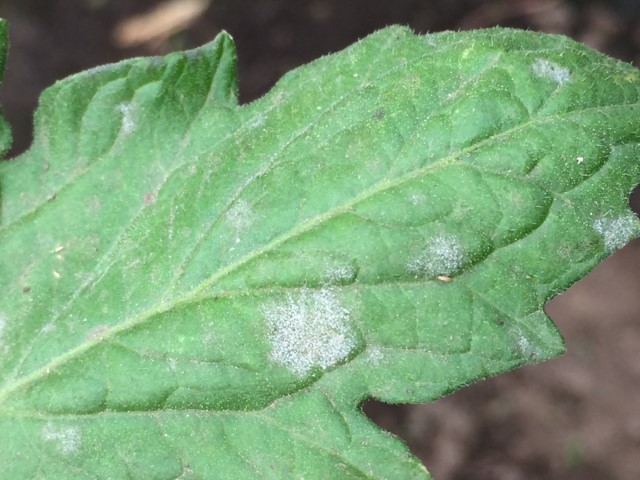oidio: (261, 264, 359, 377), (406, 232, 462, 283), (591, 213, 639, 255), (526, 53, 572, 89), (43, 425, 84, 457), (116, 100, 142, 136), (510, 328, 540, 358), (223, 199, 253, 226), (364, 343, 386, 367)
